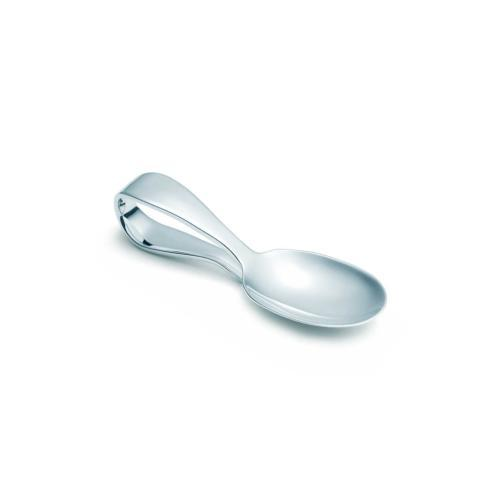Spoon: (114, 172, 387, 327)
